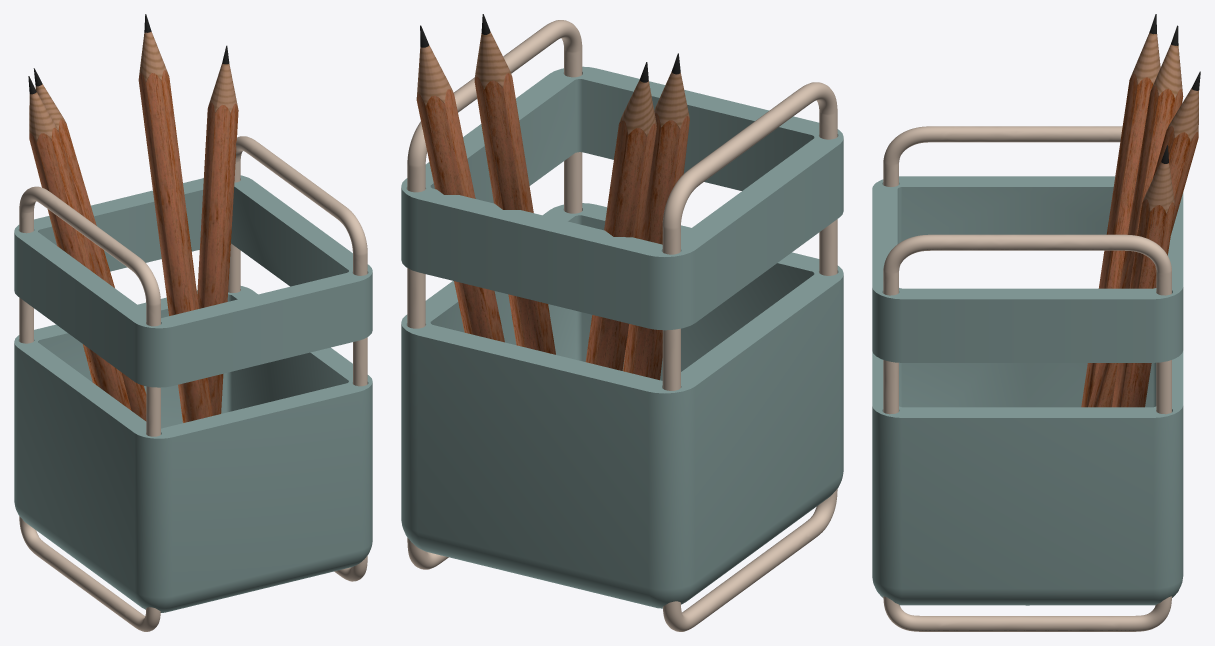
Rendered from Pencil_Holder.fbx.
3 views of the same model, side by side, from view 1: azimuth 30°, elevation 25°; view 2: azimuth 150°, elevation 25°; view 3: azimuth 270°, elevation 25° (orthographic). The views are drawn at different scales.
Visible parts, largest first — view 1: Cube, Cylinder.001, Cube.003; view 2: Cube, Cylinder.001, Cube.003; view 3: Cube, Cylinder.001, Cube.003.
Part boxes in pixels (x1=…): Cube: x1=14, y1=175, x2=372, y2=612; Cylinder.001: x1=28, y1=14, x2=238, y2=422; Cube.003: x1=19, y1=136, x2=367, y2=631; Cube: x1=401, y1=66, x2=843, y2=608; Cylinder.001: x1=416, y1=14, x2=689, y2=380; Cube.003: x1=407, y1=20, x2=837, y2=631; Cube: x1=872, y1=176, x2=1183, y2=605; Cylinder.001: x1=1081, y1=14, x2=1200, y2=407; Cube.003: x1=883, y1=126, x2=1171, y2=631.
Bounding box in the file's own units: 0.1215 × 0.2404 × 0.1371.
